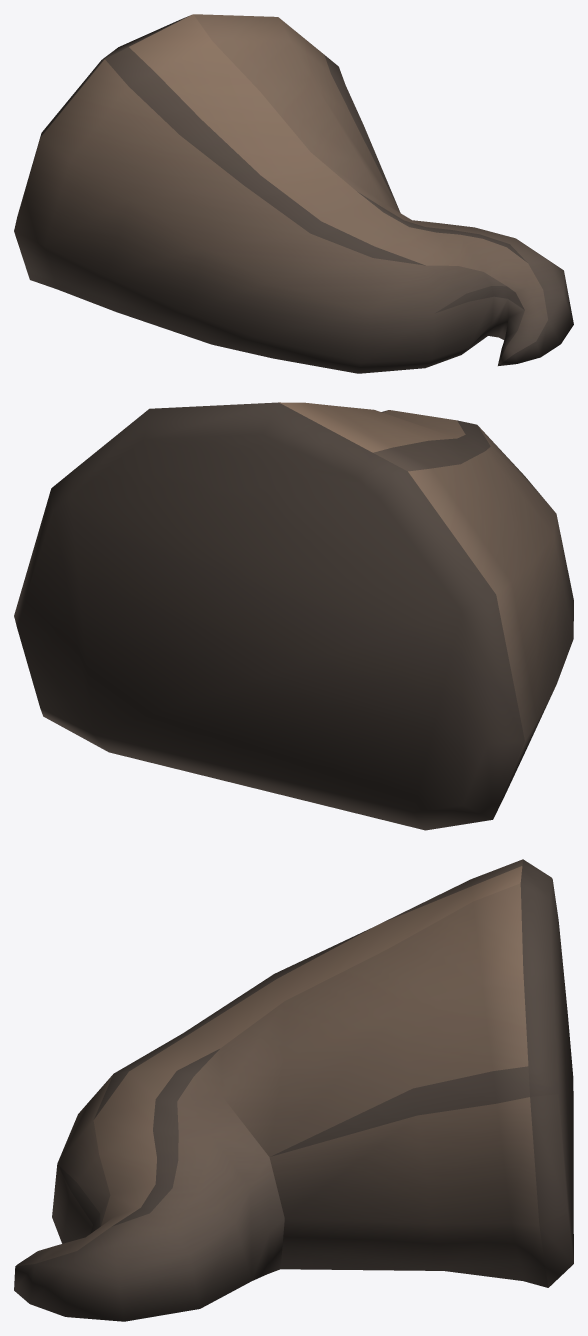
Rendered from elf_tree_root_2.fbx.
3 renders of one model, top to bottom at view 1: azimuth 30°, elevation 25°; view 2: azimuth 150°, elevation 25°; view 3: azimuth 270°, elevation 25°, orthographic. The views are drawn at different scales.
Parts seen in each view (by area): view 1: elf_tree_root_2; view 2: elf_tree_root_2; view 3: elf_tree_root_2.
Boxes of the visible parts, bbox=[...] form: elf_tree_root_2: bbox=[14, 14, 573, 373]; elf_tree_root_2: bbox=[14, 402, 573, 830]; elf_tree_root_2: bbox=[14, 859, 573, 1321].
Bounding box in the file's own units: 2.43 × 1.49 × 2.3.
